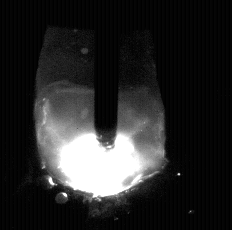arame: (94, 0, 119, 150)
poca: (35, 0, 167, 230)
